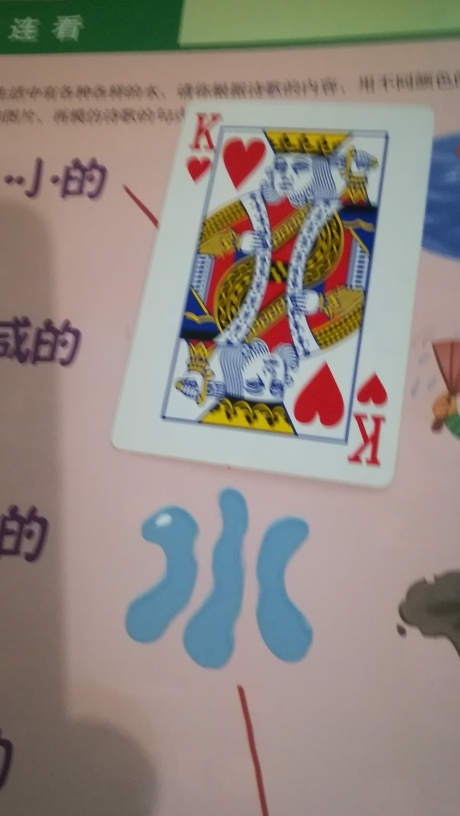hx k: (106, 91, 431, 496)
